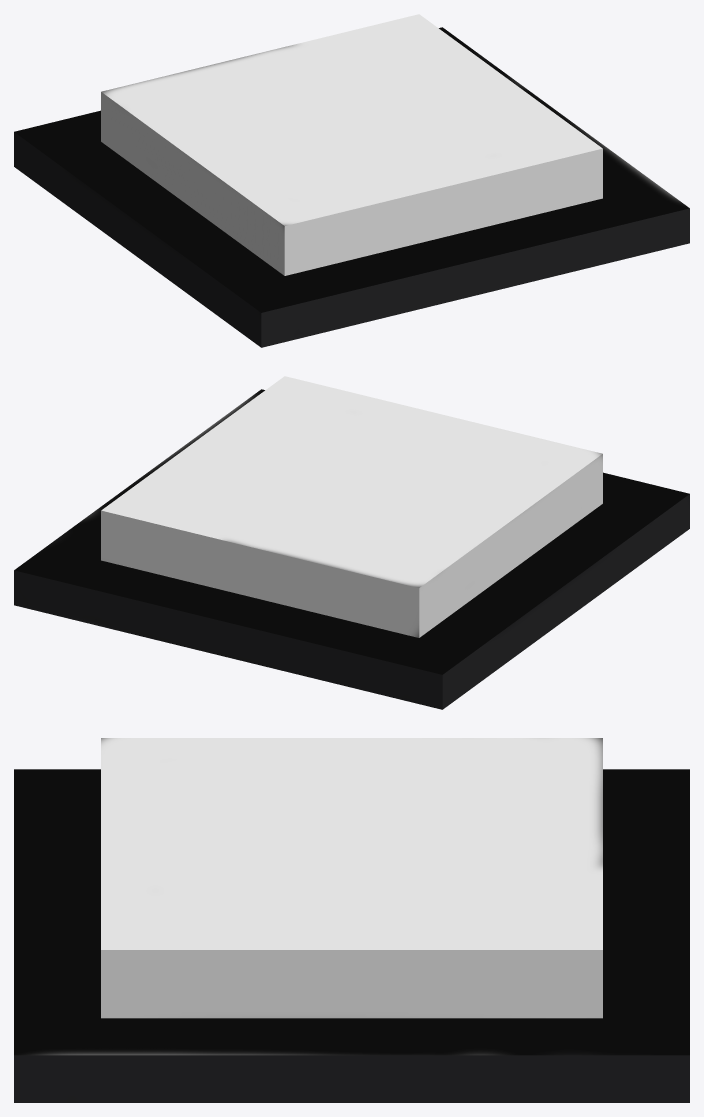
File: lamp.fbx
The picture shows the model from 3 angles, top to bottom: view 1: azimuth 30°, elevation 25°; view 2: azimuth 150°, elevation 25°; view 3: azimuth 270°, elevation 25°; orthographic projection. The views are drawn at different scales.
Parts seen in each view (by area): view 1: Cube; view 2: Cube; view 3: Cube.
Part boxes in pixels (x1,y1,x2,y2): Cube: (14,14,689,347); Cube: (14,376,689,709); Cube: (14,738,689,1102).
Size of the model in its own units: 26.94 by 26.94 by 5.1.
1 material, 1 textured.
